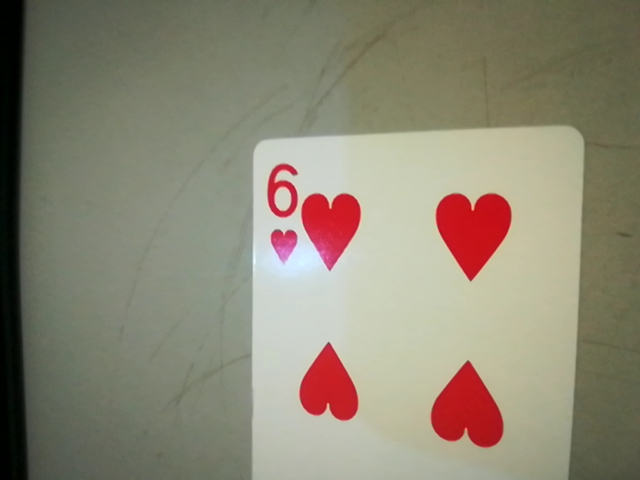hx 6: (255, 156, 308, 274)
